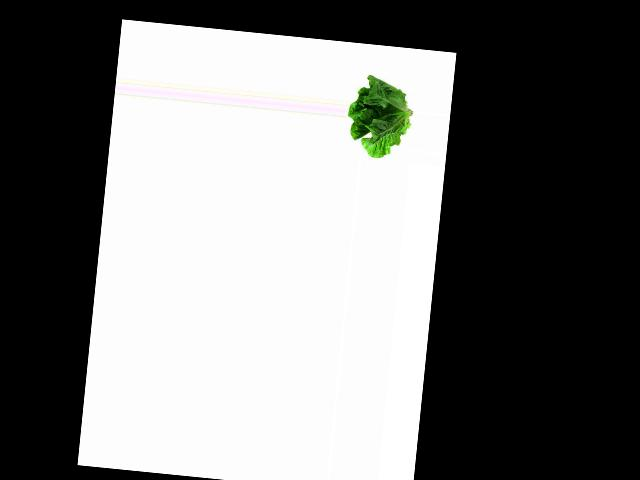lettuce: (344, 72, 413, 159)
